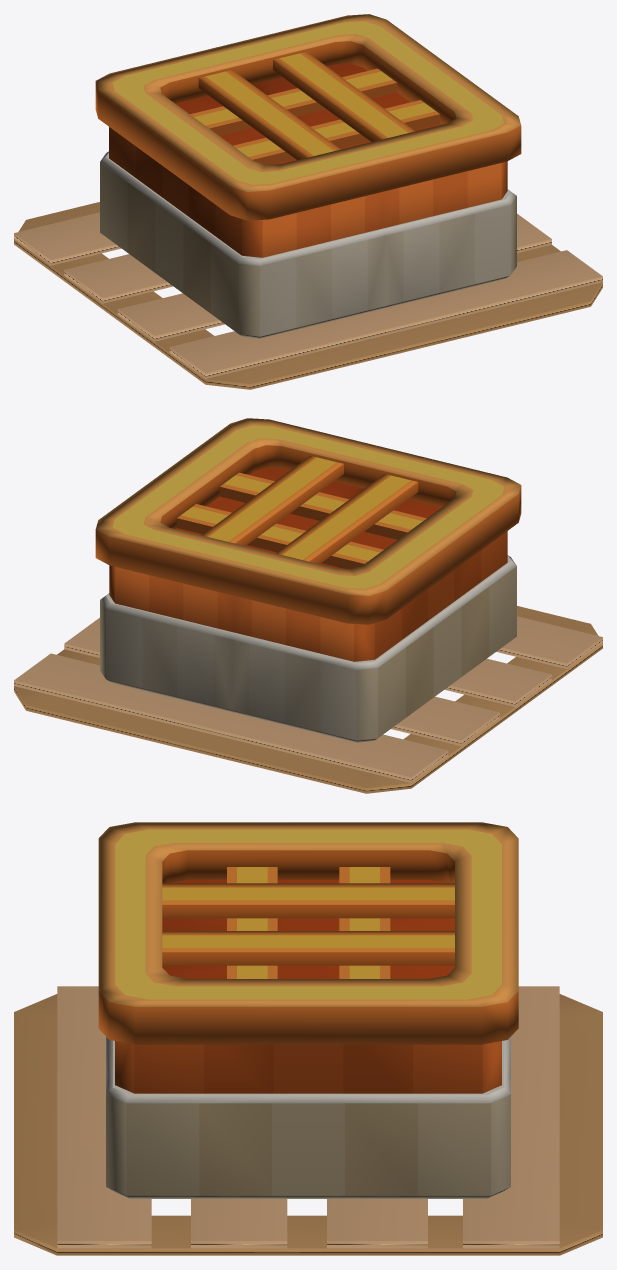
Rendered from BC_cookrecipe_21.fbx.
The picture shows the model from 3 angles, top to bottom: view 1: azimuth 30°, elevation 25°; view 2: azimuth 150°, elevation 25°; view 3: azimuth 270°, elevation 25°; orthographic projection. The views are drawn at different scales.
Visible parts, largest first — view 1: BC_cookrecipe_21 1, base; view 2: BC_cookrecipe_21 1, base; view 3: BC_cookrecipe_21 1, base.
Part boxes in pixels (box(x1,y1,x2,y2)): BC_cookrecipe_21 1: box(95, 14, 521, 338); base: box(14, 202, 602, 389); BC_cookrecipe_21 1: box(95, 418, 521, 742); base: box(14, 606, 602, 793); BC_cookrecipe_21 1: box(98, 822, 518, 1198); base: box(14, 986, 602, 1255).
Size of the model in its own units: 3.54 by 1.39 by 3.47.
